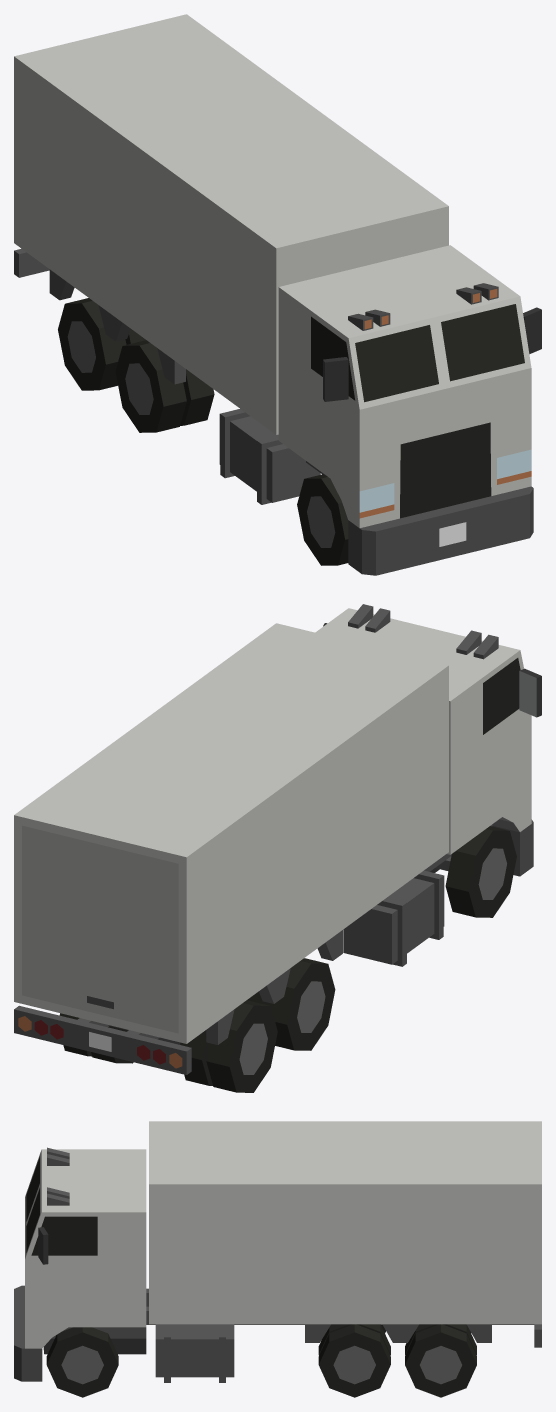
The model's file is Veh_Truck_03_White.glb.
The picture shows the model from 3 angles, top to bottom: view 1: azimuth 30°, elevation 25°; view 2: azimuth 150°, elevation 25°; view 3: azimuth 270°, elevation 25°; orthographic projection. The views are drawn at different scales.
Parts seen in each view (by area): view 1: Truck_03_White, Wheel_RR1, Wheel_RR2, Wheel_FR; view 2: Truck_03_White, Wheel_RR2, Wheel_FR, Wheel_RR1; view 3: Truck_03_White, Wheel_RL1, Wheel_RL2, Wheel_FL.
Boxes of the visible parts, x1=… form: Truck_03_White: x1=14, y1=14, x2=541, y2=575; Wheel_RR1: x1=115, y1=340, x2=214, y2=432; Wheel_RR2: x1=58, y1=298, x2=146, y2=390; Wheel_FR: x1=297, y1=474, x2=348, y2=565; Truck_03_White: x1=14, y1=604, x2=541, y2=1074; Wheel_RR2: x1=180, y1=1000, x2=277, y2=1092; Wheel_FR: x1=445, y1=826, x2=516, y2=917; Wheel_RR1: x1=247, y1=958, x2=335, y2=1050; Truck_03_White: x1=14, y1=1121, x2=541, y2=1382; Wheel_RL1: x1=318, y1=1324, x2=390, y2=1397; Wheel_RL2: x1=405, y1=1324, x2=476, y2=1397; Wheel_FL: x1=46, y1=1327, x2=118, y2=1397.
Size of the model in its own units: 1.68 by 2.11 by 4.74.
Materials: 1 (1 with a texture image).
